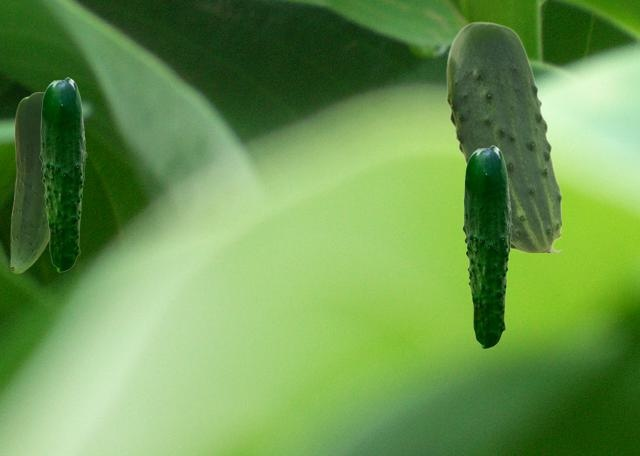cucumber: (446, 21, 560, 251), (462, 145, 512, 348), (39, 77, 86, 271), (10, 92, 48, 272)
